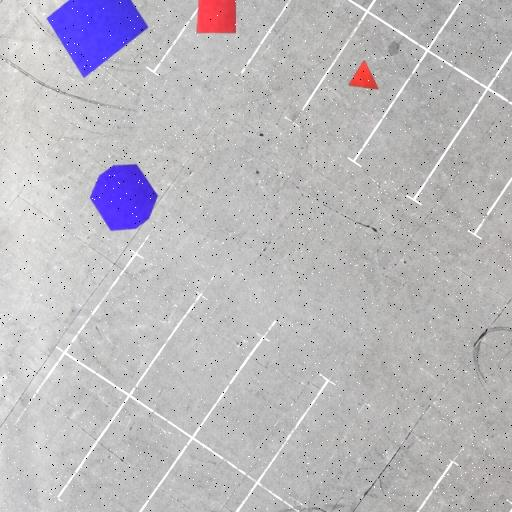BLUE_SQUARE: (46, 0, 149, 78)
RED_SQUARE: (196, 0, 237, 34)
